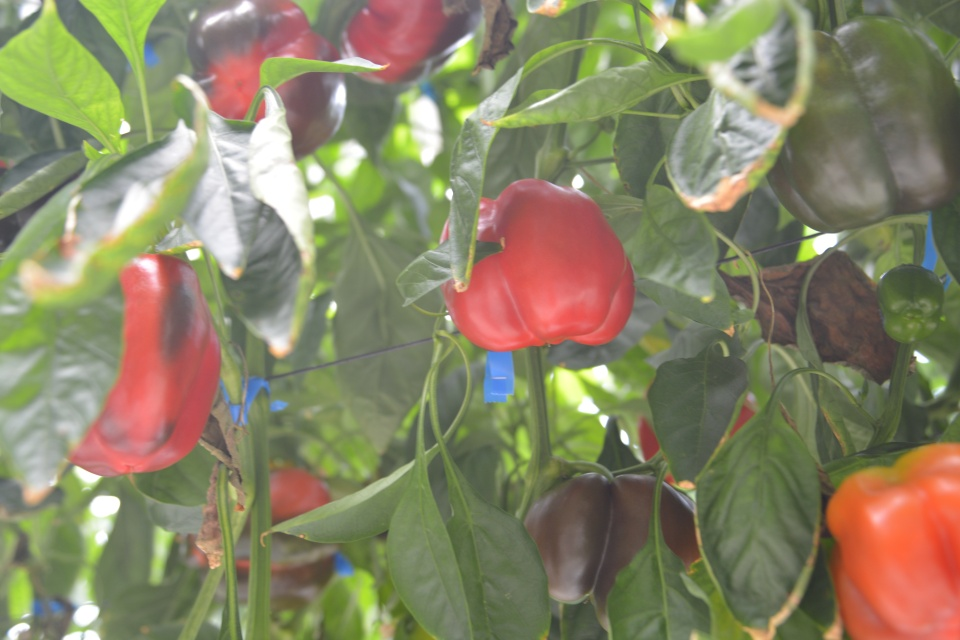fruit: (763, 15, 960, 237), (63, 250, 222, 480), (435, 175, 637, 353), (521, 470, 704, 634), (822, 440, 959, 640), (183, 0, 349, 164), (187, 462, 339, 612), (336, 0, 470, 83), (876, 259, 946, 346)
